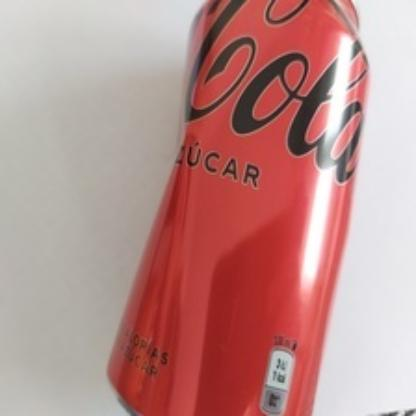Can: (109, 0, 368, 416)
